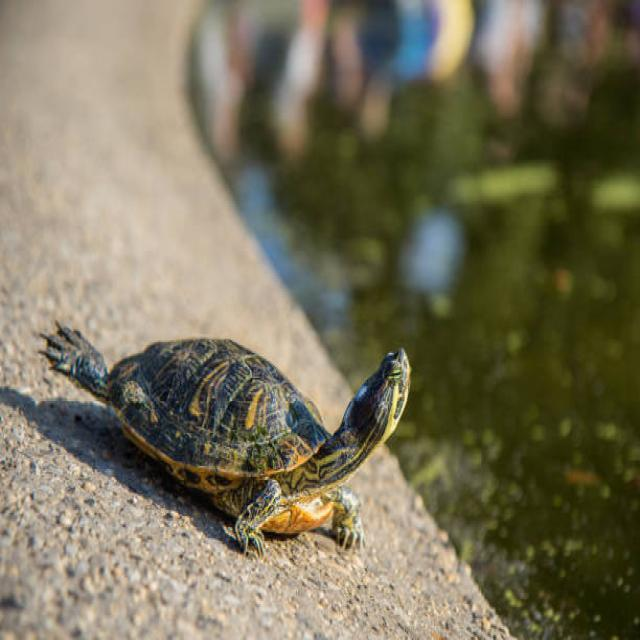tortoise: (34, 308, 426, 584)
